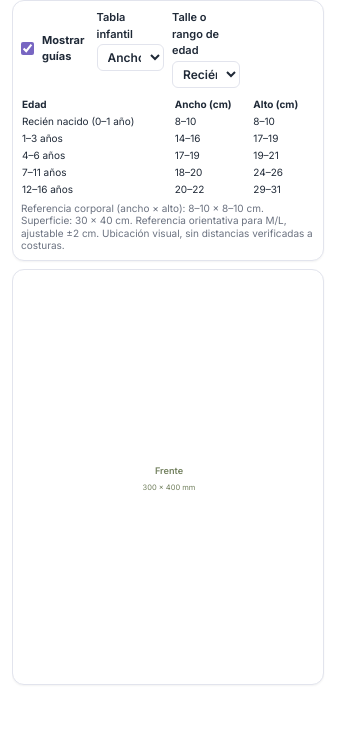
Test case: TshirtCanvas print guides › only displays guides for the selected real model and keeps child tables separate
Later steps or results of the test are not shown.
expect the table named "Ancho y alto de referencia por edad" is shown: met, box [21, 96, 315, 198]
Select "Estampados recomendados" in the dropdown named "Tabla de medidas infantiles" at (130, 58), box [96, 44, 164, 71]
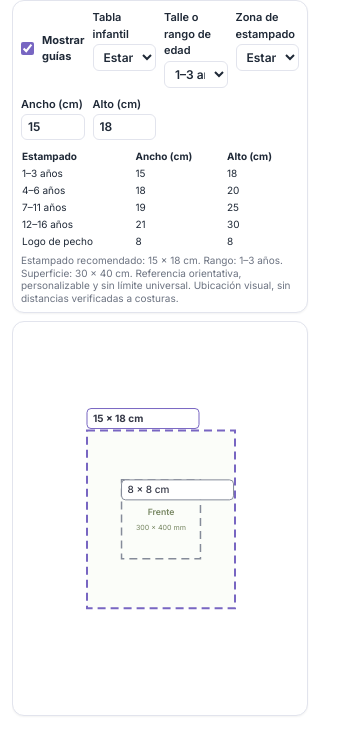
expect the table named "Tamaños de estampado recomendados por edad" is shown: met, box [21, 148, 299, 250]
Select "7–11 años" in the dropdown labelled "Talle o rango de edad" at (196, 74), box [164, 60, 228, 88]
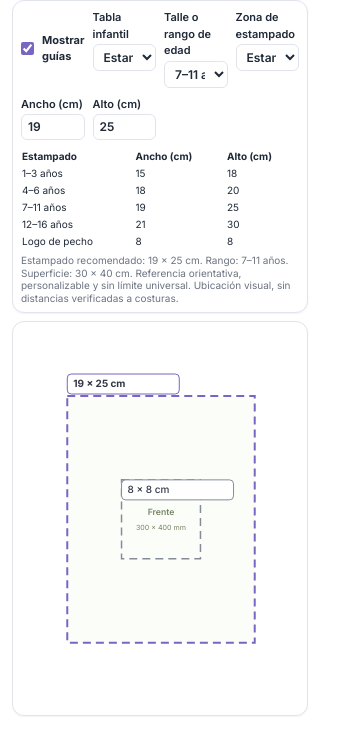
Select "Estampado recomendado" in the dropdown labelled "Zona de estampado" at (267, 58), box [236, 44, 299, 71]
expect the icon "19 × 25 cm 8 × 8 cm" is shown: met, box [13, 322, 308, 716]
